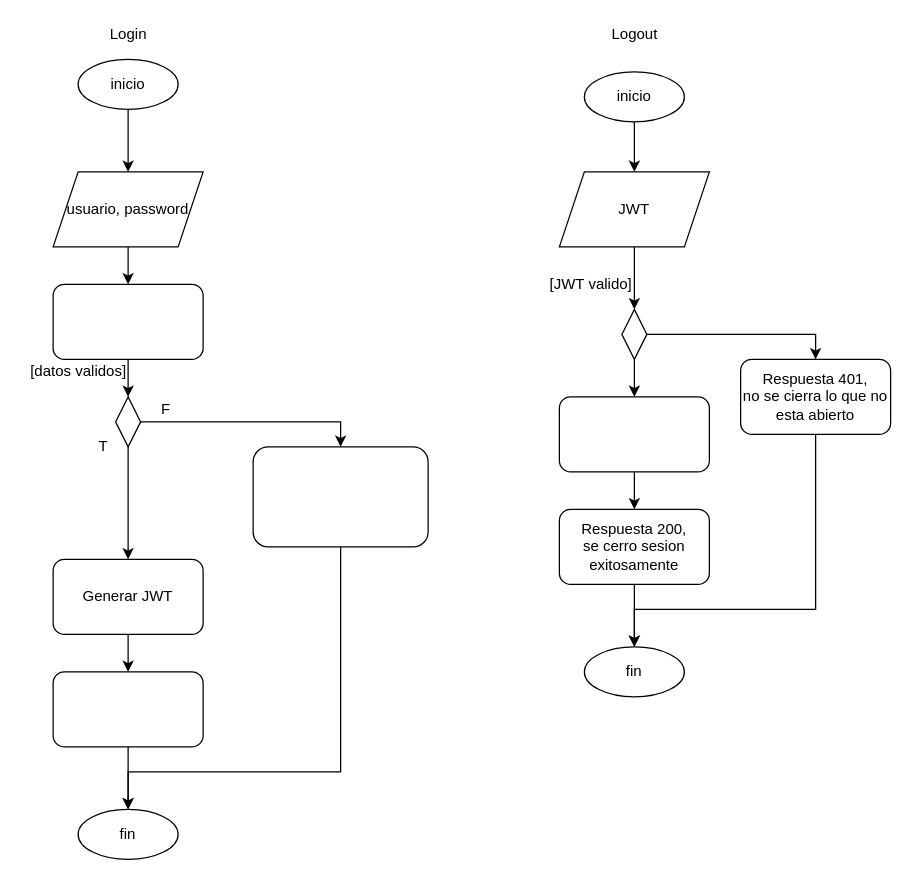
Image size: 913x881. Some labels were removed from this diagram. Each missing label, with the box of its shape:
consultar en la BD y obtener si es especialista o no: (52, 283, 203, 359)
El JWT expira por si solo...: (558, 396, 709, 472)
Error 406: Not Acceptable Mensaje: usuario/password no coinciden: (252, 446, 428, 547)
Respuesta 200 y JWT: (52, 671, 203, 747)
